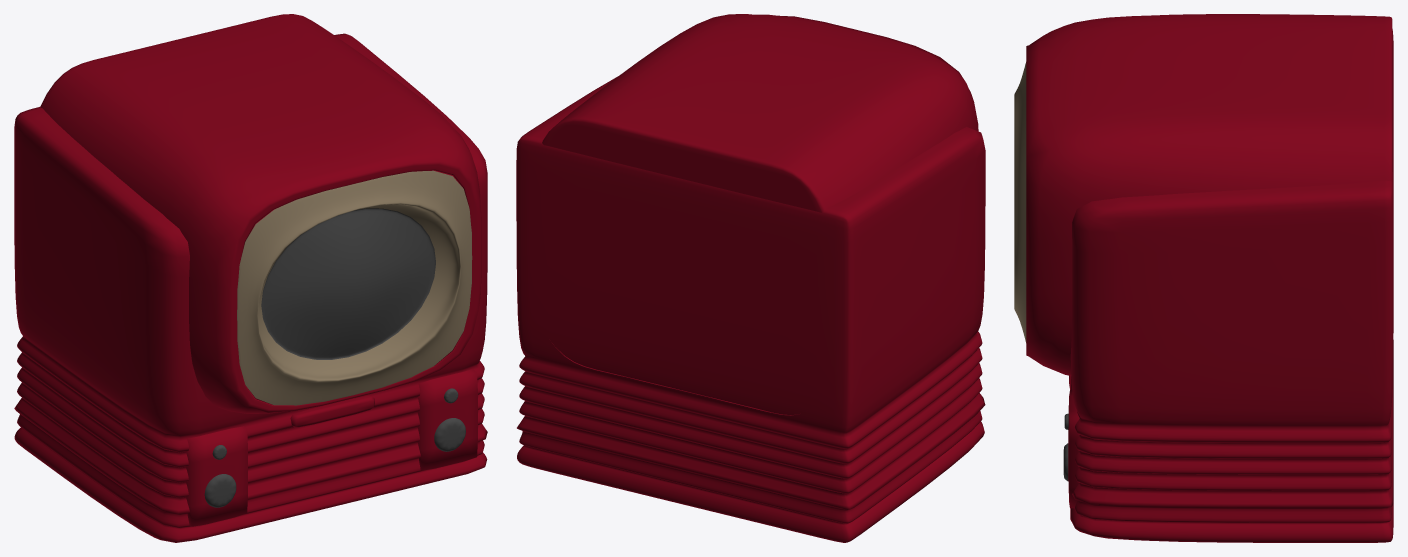
3 renders of one model, left to right at view 1: azimuth 30°, elevation 25°; view 2: azimuth 150°, elevation 25°; view 3: azimuth 270°, elevation 25°, orthographic. The views are drawn at different scales.
Parts seen in each view (by area): view 1: Cube.001; view 2: Cube.001; view 3: Cube.001.
Boxes of the visible parts, left/top/right/bottom form: Cube.001: left=14, top=14, right=487, bottom=542; Cube.001: left=516, top=14, right=985, bottom=542; Cube.001: left=1014, top=14, right=1393, bottom=542.
Bounding box in the file's own units: 0.6135 × 0.6384 × 0.5605.
